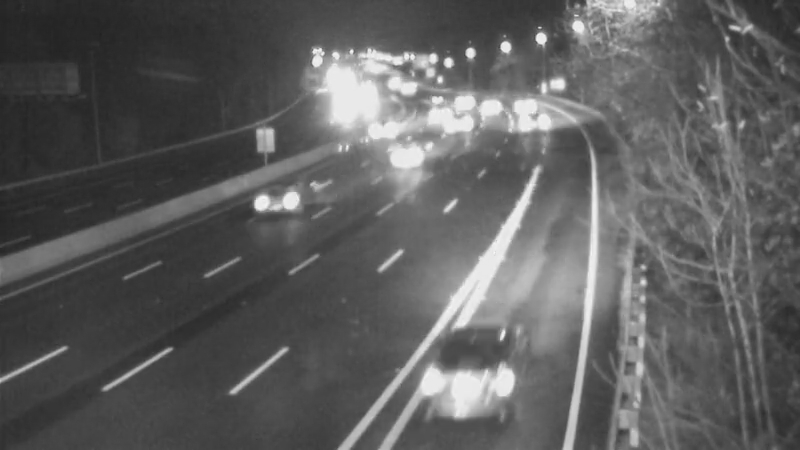vehicle: (409, 329, 519, 439), (364, 113, 444, 193), (240, 163, 320, 243), (381, 67, 431, 117), (412, 74, 462, 124), (433, 75, 483, 125), (491, 75, 541, 125), (462, 83, 512, 133), (412, 91, 462, 141), (510, 94, 560, 144), (438, 100, 488, 150), (360, 103, 410, 153), (321, 82, 371, 132)
